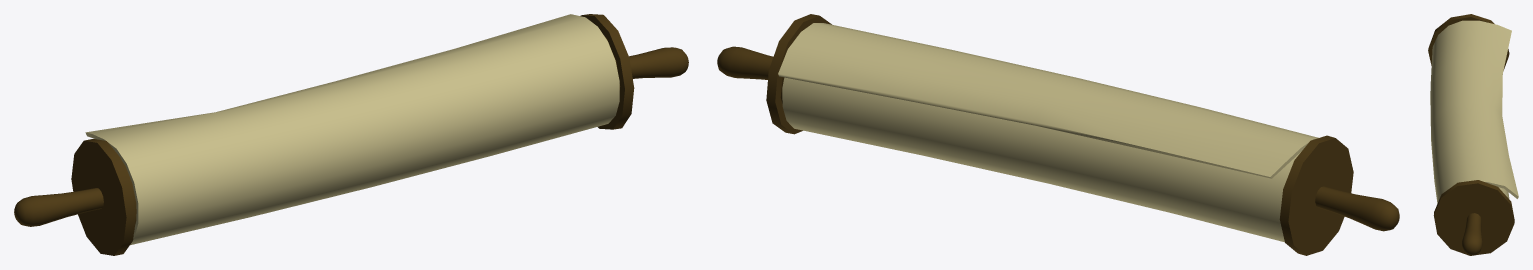
The model's file is Scroll.fbx.
3 views of the same model, side by side, from view 1: azimuth 30°, elevation 25°; view 2: azimuth 150°, elevation 25°; view 3: azimuth 270°, elevation 25° (orthographic). The views are drawn at different scales.
Visible parts, largest first — view 1: Scroll_Geo; view 2: Scroll_Geo; view 3: Scroll_Geo.
Part boxes in pixels (box(x1,y1,x2,y2)): Scroll_Geo: box(14, 14, 688, 255); Scroll_Geo: box(717, 14, 1399, 255); Scroll_Geo: box(1428, 14, 1518, 255).
Size of the model in its own units: 48.08 by 7.47 by 8.35.
